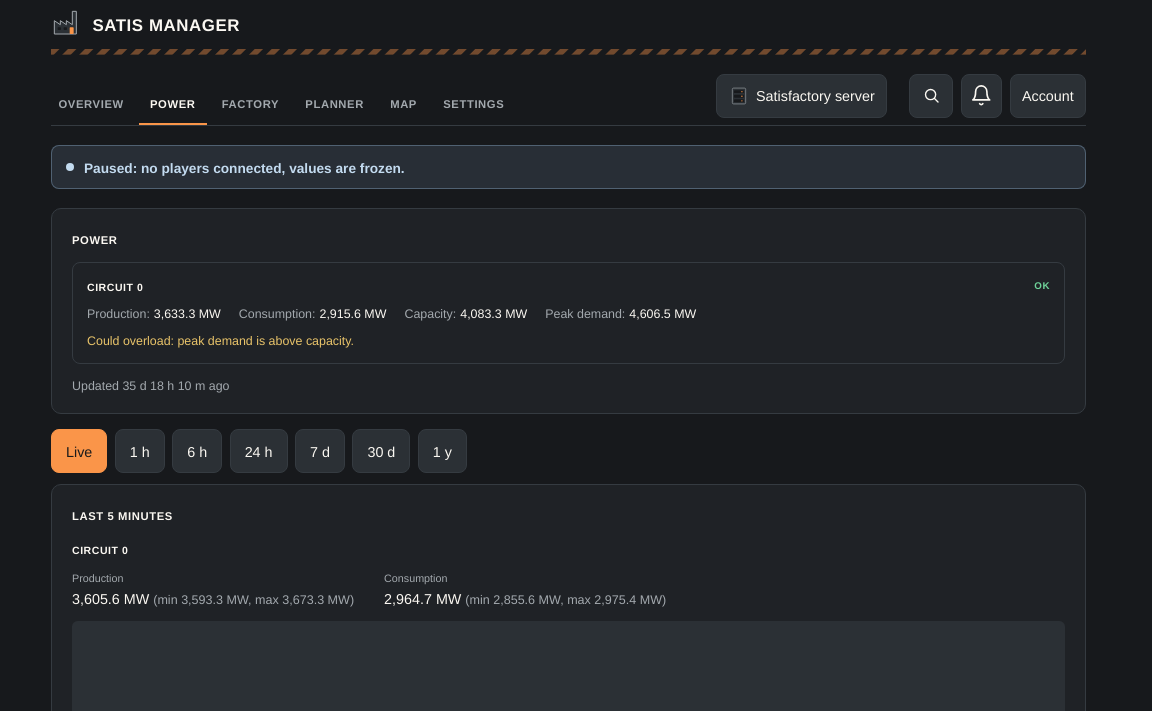
Test: App › signs in, selects the only server and shows its status banners and panel
Expected: the heading "Satis Manager" is shown, [51,6,240,38]
Expected: the text "Satisfactory server" is shown, [756,84,875,107]
Step 1. Click the link "Overview" → coordinates (91, 102), box [58,93,124,111]
(page scrolled)
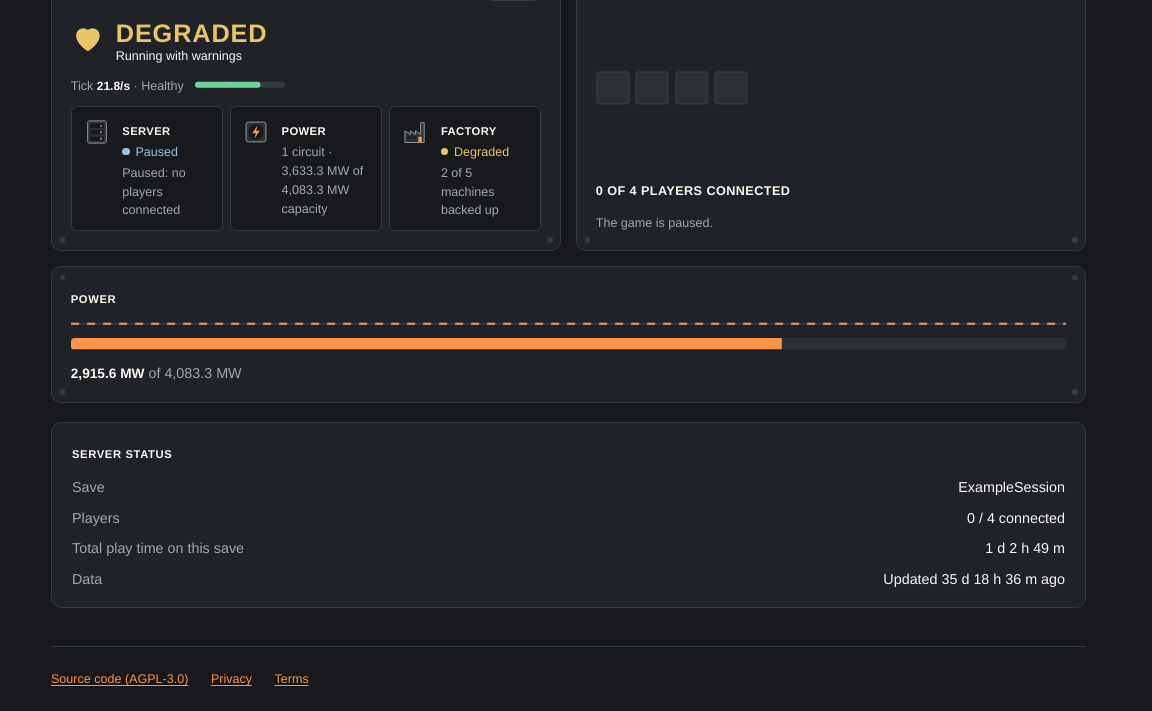
Result: the element "Server status" shows "ExampleSession" at [958,477,1065,495]
